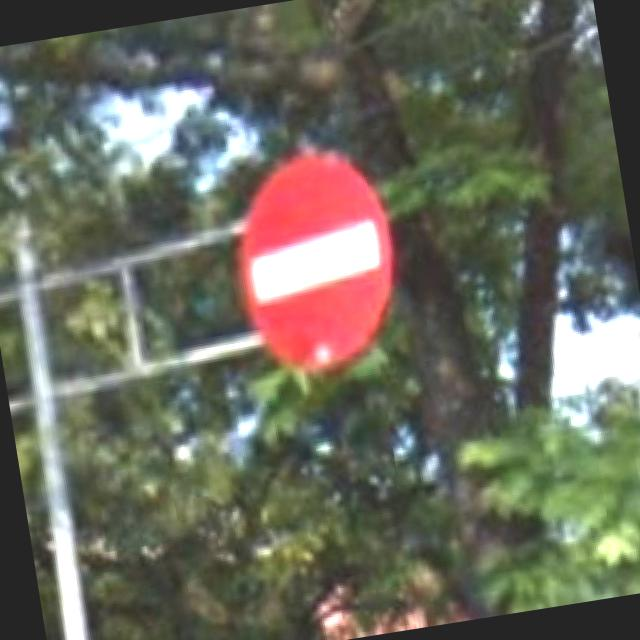Zakaz wjazdu: (221, 151, 405, 381)
